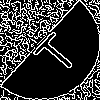T: (25, 25, 82, 78)
